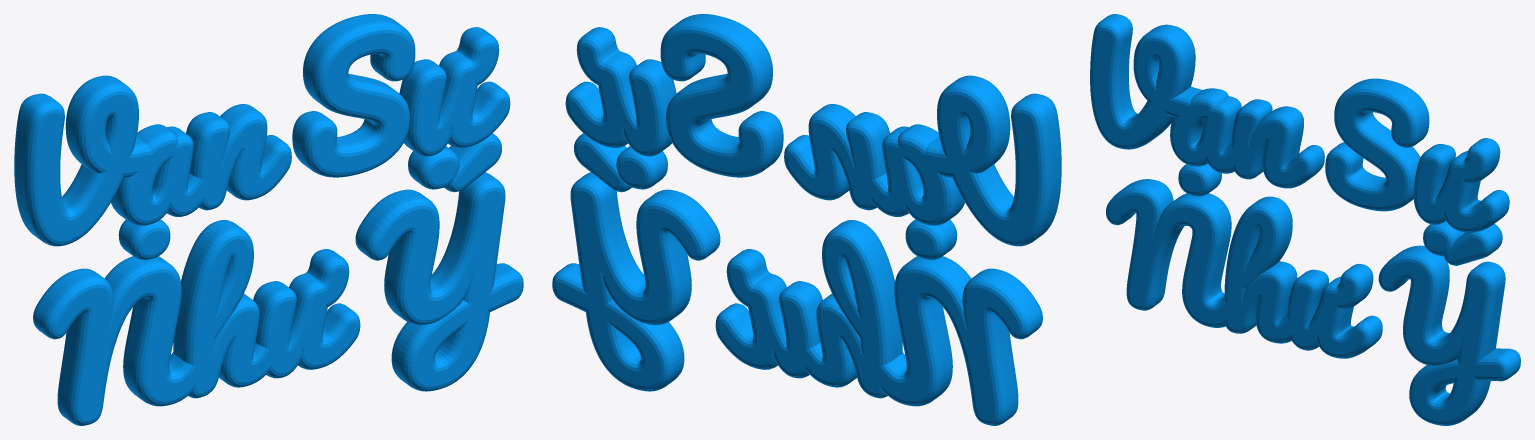
The model's file is cnt.gltf.
3 renders of one model, left to right at view 1: azimuth 30°, elevation 25°; view 2: azimuth 150°, elevation 25°; view 3: azimuth 330°, elevation 25°, orthographic. The views are drawn at different scales.
Parts seen in each view (by area): view 1: van_su_nhu_y; view 2: van_su_nhu_y; view 3: van_su_nhu_y.
Part boxes in pixels (left/top/right/bottom): van_su_nhu_y: left=14, top=14, right=523, bottom=425; van_su_nhu_y: left=552, top=14, right=1061, bottom=425; van_su_nhu_y: left=1090, top=14, right=1520, bottom=425.
Size of the model in its own units: 0.72 by 0.532 by 0.0485.
